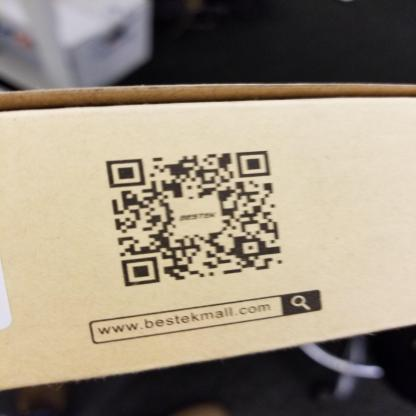qr: (101, 145, 288, 284)
